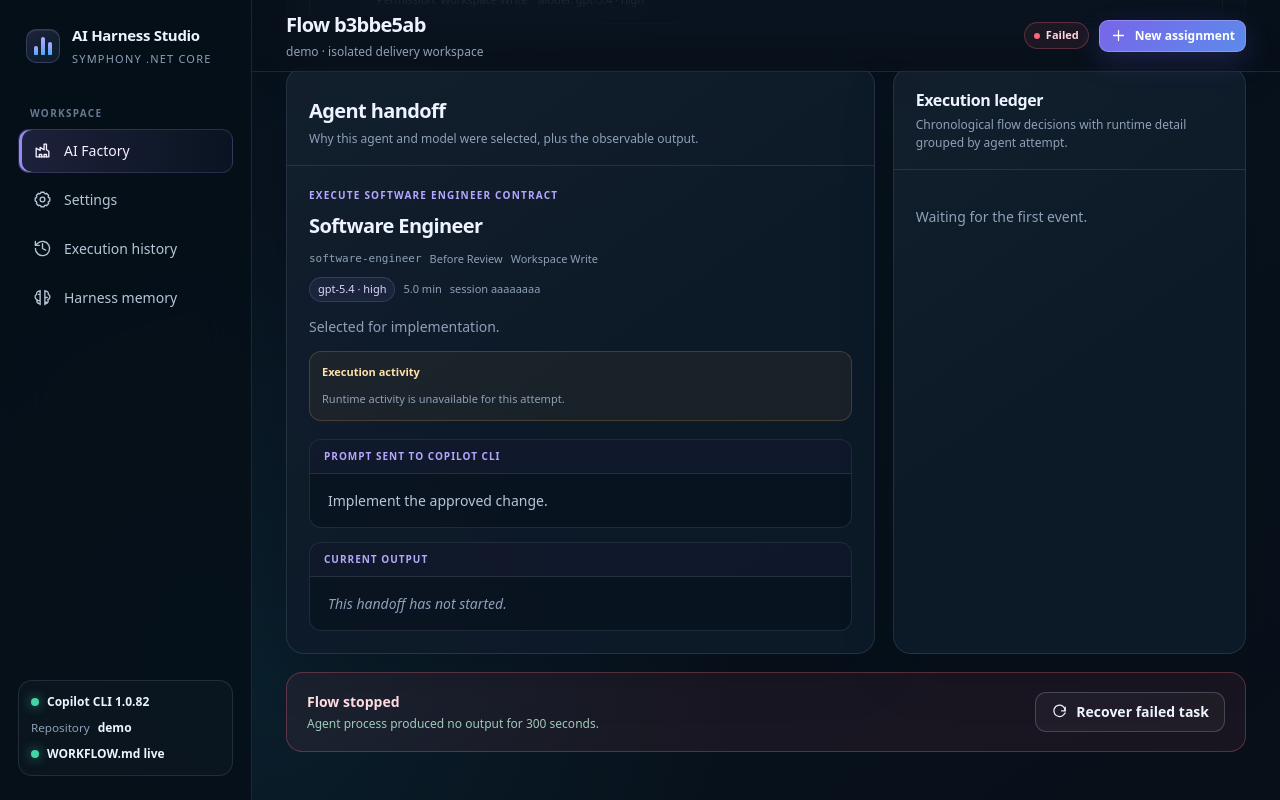
FlowPage manual restart › recovers a failed task and selects Manual restart of Software Engineer
(page scrolled)
Click the button "Recover failed task" at (1130, 712), box [1035,692,1225,732]
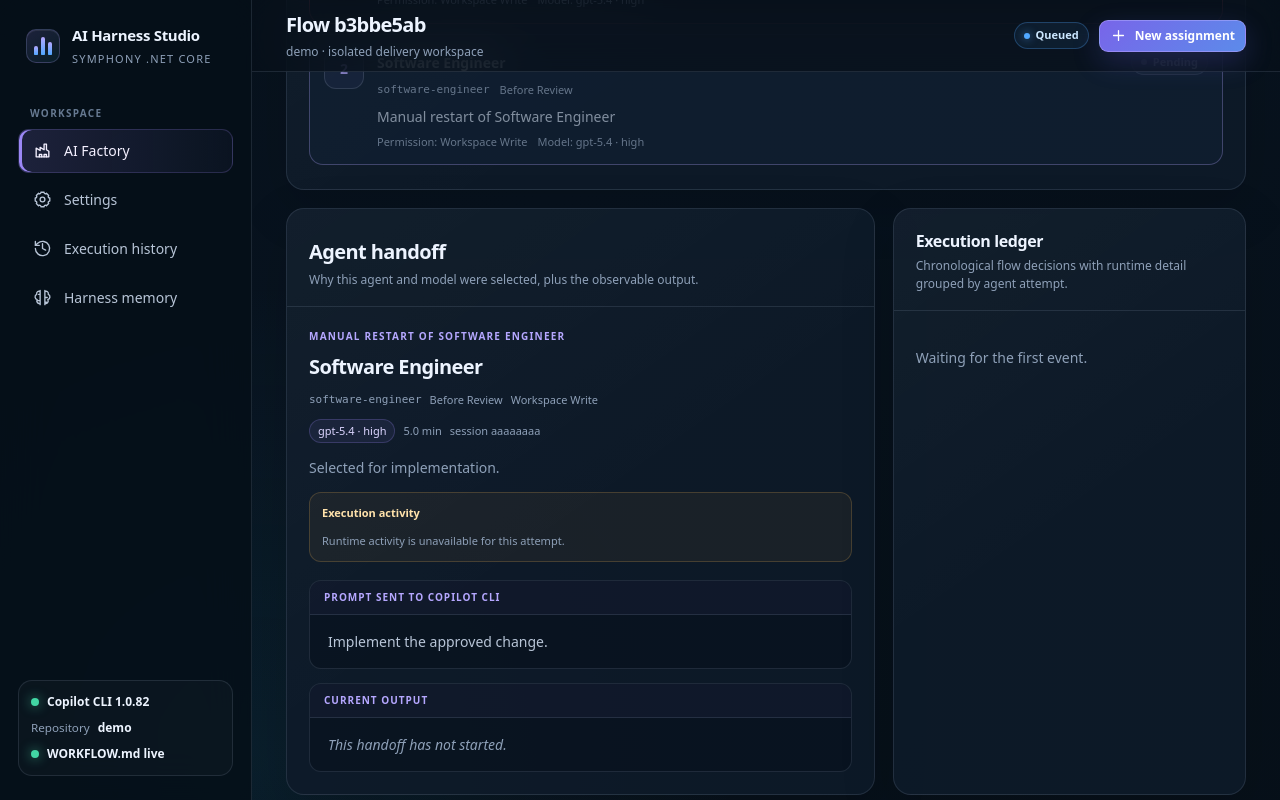
Result: the text "Manual restart of Software Engineer" below "completed" is shown at [377,107,615,126]
Result: the text "Flow stopped" is gone
